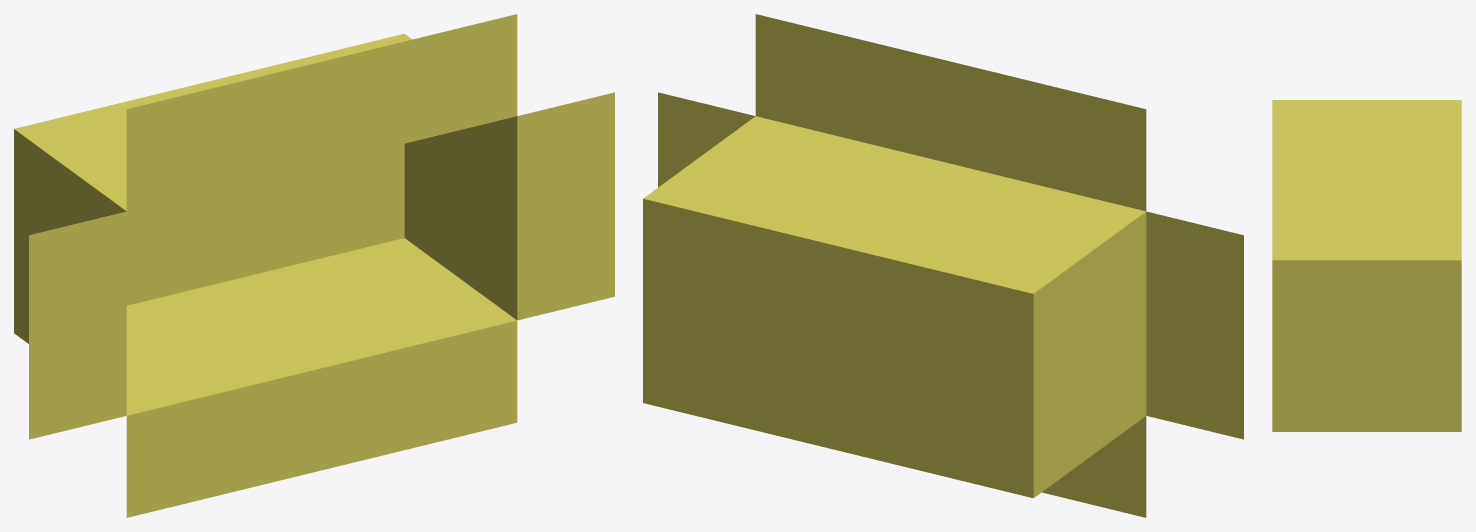
The model's file is box_2_open.dae.
3 renders of one model, left to right at view 1: azimuth 30°, elevation 25°; view 2: azimuth 150°, elevation 25°; view 3: azimuth 270°, elevation 25°, orthographic. The views are drawn at different scales.
Visible parts, largest first — view 1: coords_ME_ID3_MA_material_27, coords_ME_ID23_MA_material_27, coords_ME_ID17_MA_material_27, coords_ME_ID29_MA_material_27, coords_ME_ID11_MA_material_27; view 2: coords_ME_ID3_MA_material_27, coords_ME_ID23_MA_material_27, coords_ME_ID29_MA_material_27, coords_ME_ID17_MA_material_27, coords_ME_ID11_MA_material_27; view 3: coords_ME_ID3_MA_material_27.
Part boxes in pixels (box(x1,y1,x2,y2)): coords_ME_ID3_MA_material_27: box(14, 33, 517, 415); coords_ME_ID23_MA_material_27: box(126, 14, 517, 211); coords_ME_ID17_MA_material_27: box(126, 320, 517, 517); coords_ME_ID29_MA_material_27: box(29, 211, 126, 439); coords_ME_ID11_MA_material_27: box(517, 92, 614, 320); coords_ME_ID3_MA_material_27: box(643, 116, 1146, 498); coords_ME_ID23_MA_material_27: box(755, 14, 1146, 211); coords_ME_ID29_MA_material_27: box(1146, 211, 1243, 439); coords_ME_ID17_MA_material_27: box(1042, 416, 1146, 517); coords_ME_ID11_MA_material_27: box(658, 92, 755, 187); coords_ME_ID3_MA_material_27: box(1272, 100, 1461, 431).
Bounding box in the file's own units: 14.17 × 9.45 × 4.72.
